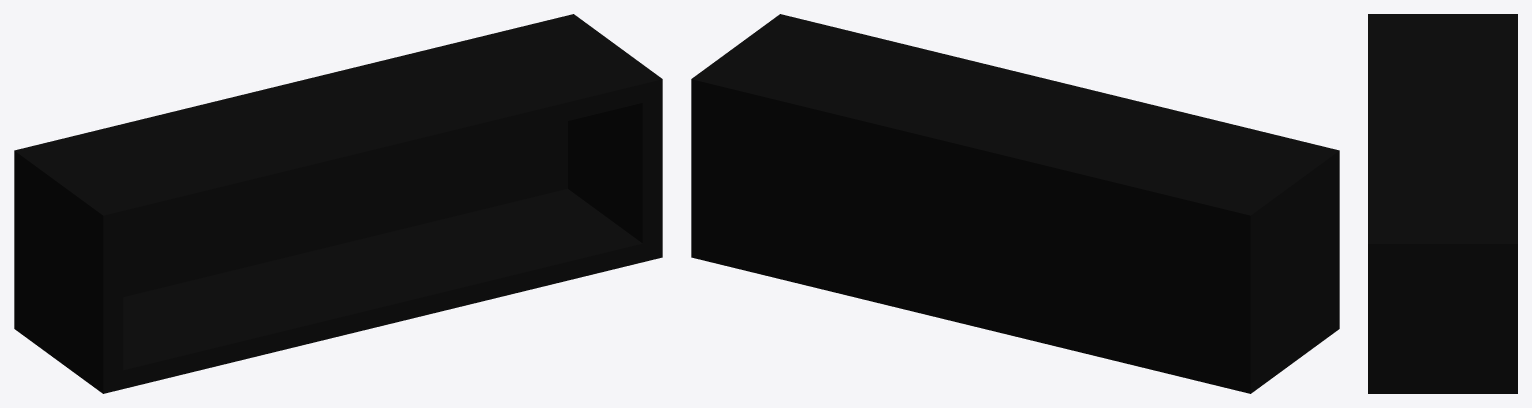
Rendered from Itr_Wardrobe4_Body1_05.FBX.
3 views of the same model, side by side, from view 1: azimuth 30°, elevation 25°; view 2: azimuth 150°, elevation 25°; view 3: azimuth 270°, elevation 25° (orthographic). The views are drawn at different scales.
Visible parts, largest first — view 1: Itr_Wardrobe4_Body1_05; view 2: Itr_Wardrobe4_Body1_05; view 3: Itr_Wardrobe4_Body1_05.
Boxes of the visible parts, x1=… form: Itr_Wardrobe4_Body1_05: x1=14, y1=14, x2=662, y2=393; Itr_Wardrobe4_Body1_05: x1=691, y1=14, x2=1339, y2=393; Itr_Wardrobe4_Body1_05: x1=1368, y1=14, x2=1517, y2=393.
Size of the model in its own units: 59.06 by 17.98 by 16.27.
